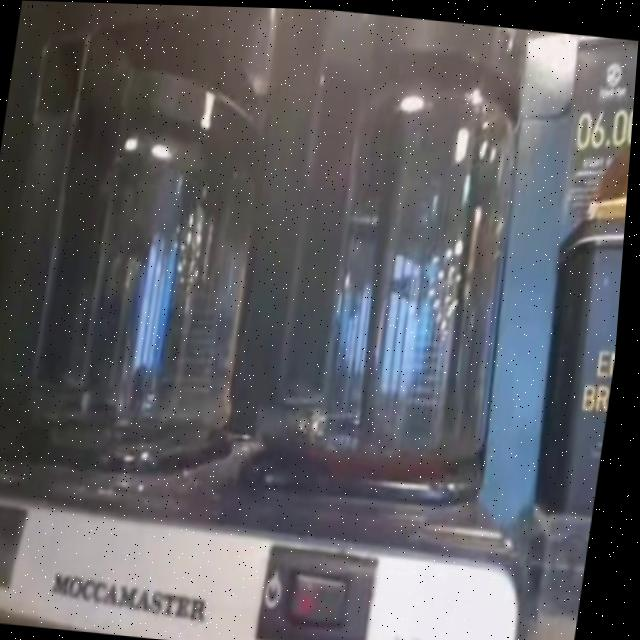nocoffee: (262, 100, 525, 487), (24, 127, 267, 450)
